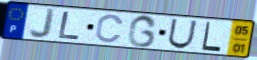C: (94, 14, 126, 45)
G: (126, 14, 159, 49)
J: (28, 7, 58, 41)
L: (57, 10, 82, 41), (200, 20, 223, 53)
U: (166, 18, 199, 50)
